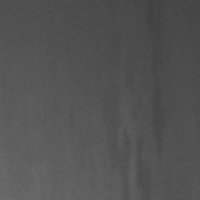inclusion: (100, 8, 144, 196), (142, 0, 175, 165)
